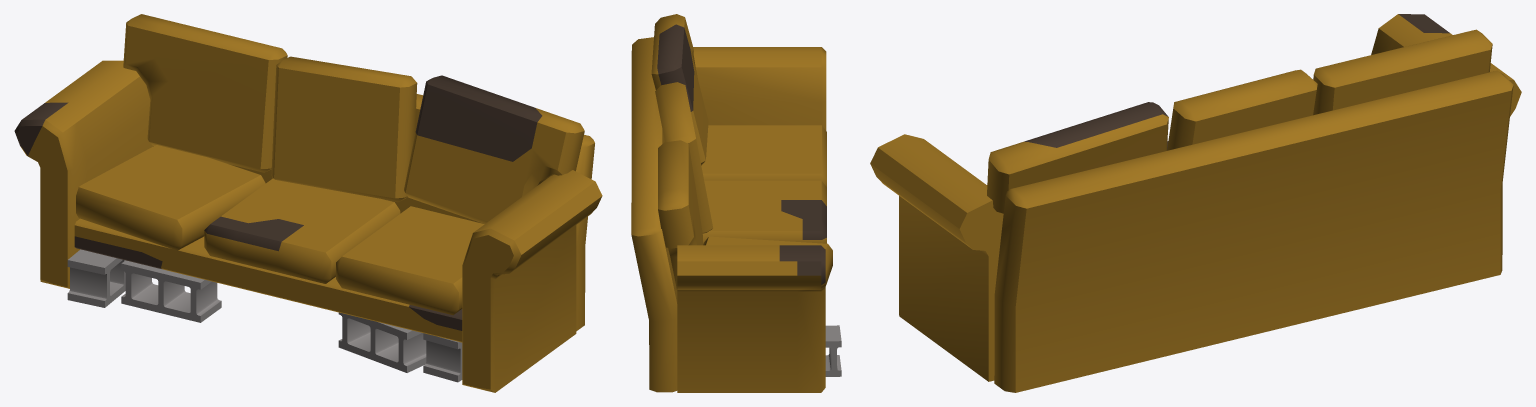
Rendered from couch_lev1.glb.
The picture shows the model from 3 angles, left to right: view 1: azimuth 30°, elevation 25°; view 2: azimuth 150°, elevation 25°; view 3: azimuth 270°, elevation 25°; orthographic projection. The views are drawn at different scales.
Visible parts, largest first — view 1: couch_lev1; view 2: couch_lev1; view 3: couch_lev1.
Boxes of the visible parts, bbox=[...] form: couch_lev1: bbox=[14, 14, 602, 392]; couch_lev1: bbox=[631, 14, 841, 392]; couch_lev1: bbox=[870, 14, 1521, 392].
Size of the model in its own units: 2.36 by 1.24 by 3.03.
Materials: 1 (1 with a texture image).
